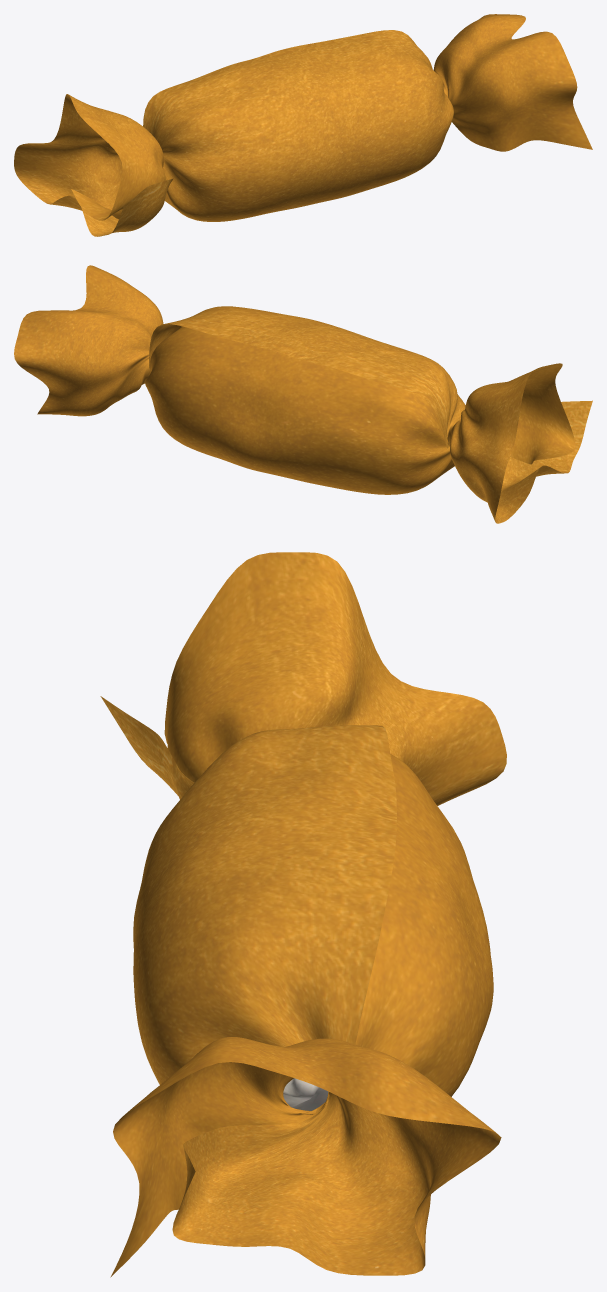
Rendered from Candy_NEW.fbx.
3 views of the same model, one above another, from view 1: azimuth 30°, elevation 25°; view 2: azimuth 150°, elevation 25°; view 3: azimuth 270°, elevation 25° (orthographic). The views are drawn at different scales.
Visible parts, largest first — view 1: candy_cover; view 2: candy_cover; view 3: candy_cover, candy_swirl_sculpted.
Part boxes in pixels (x1=…): candy_cover: x1=14, y1=14, x2=592, y2=236; candy_cover: x1=14, y1=265, x2=592, y2=523; candy_cover: x1=100, y1=552, x2=506, y2=1277; candy_swirl_sculpted: x1=283, y1=1078, x2=328, y2=1110.
Size of the model in its own units: 22.66 by 6.89 by 8.26.
2 materials, 2 textured.
